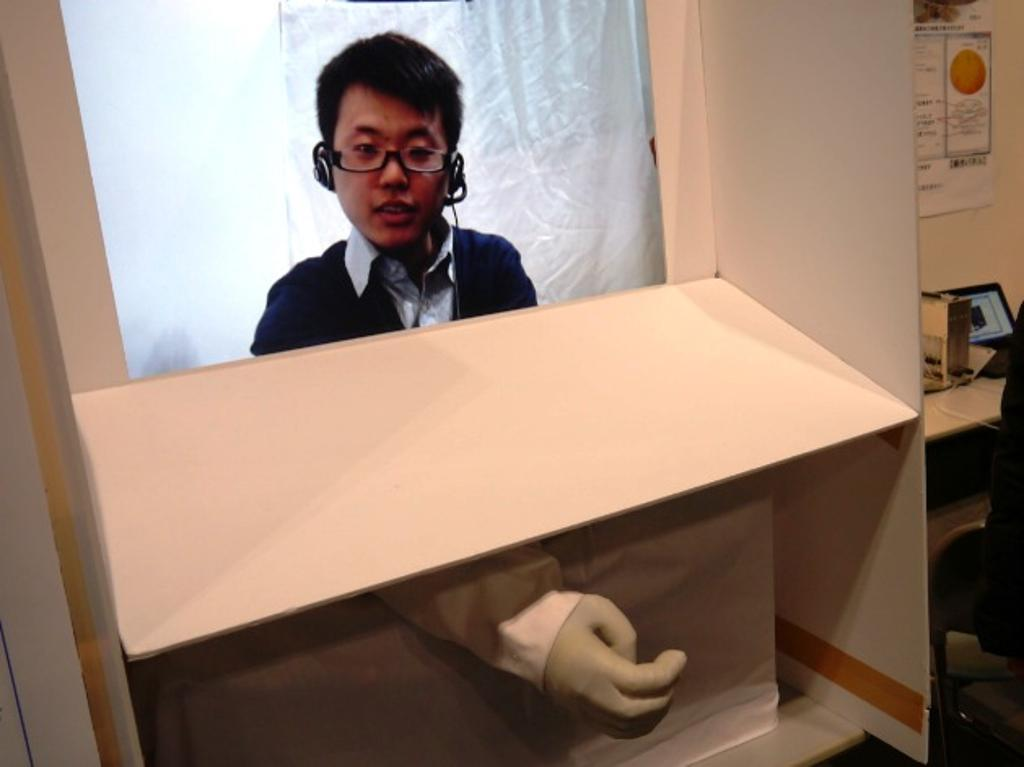face: (336, 82, 448, 244)
